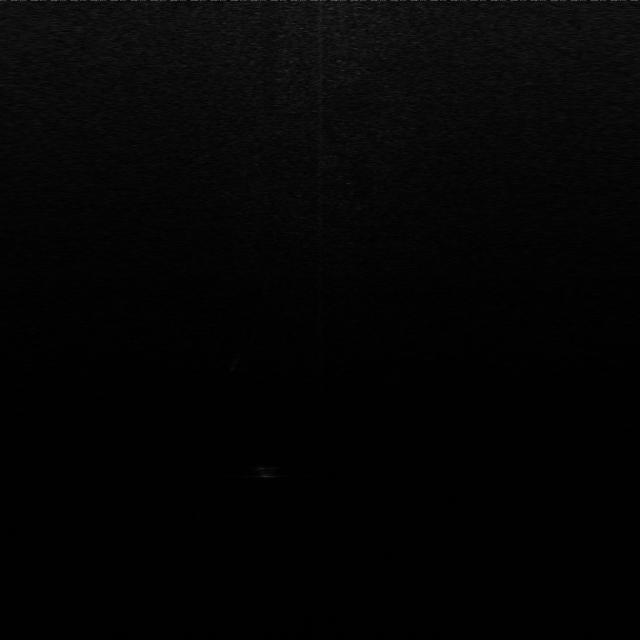circle cage: (253, 459, 282, 485)
